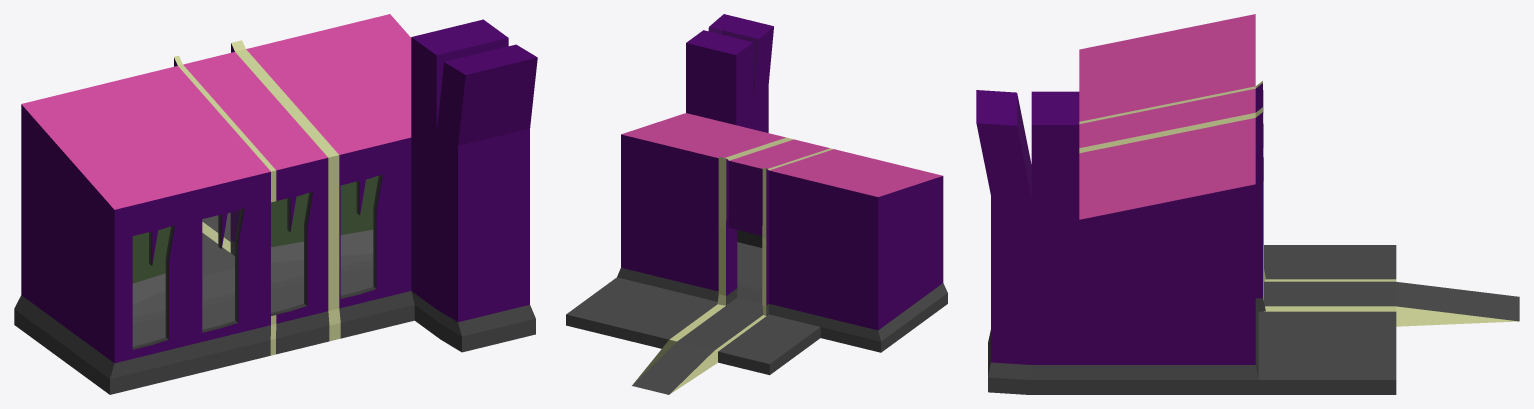
The model's file is KOSTEL.fbx.
The picture shows the model from 3 angles, left to right: view 1: azimuth 30°, elevation 25°; view 2: azimuth 150°, elevation 25°; view 3: azimuth 270°, elevation 25°; orthographic projection. The views are drawn at different scales.
Visible parts, largest first — view 1: Cube; view 2: Cube; view 3: Cube.
Part boxes in pixels (x1,y1,x2,y2): Cube: (14,14,537,394); Cube: (566,14,947,394); Cube: (976,14,1519,394).
Bounding box in the file's own units: 259 × 187 × 341.
